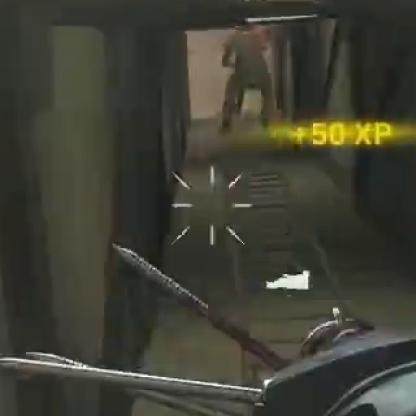enemy: (216, 13, 277, 134)
